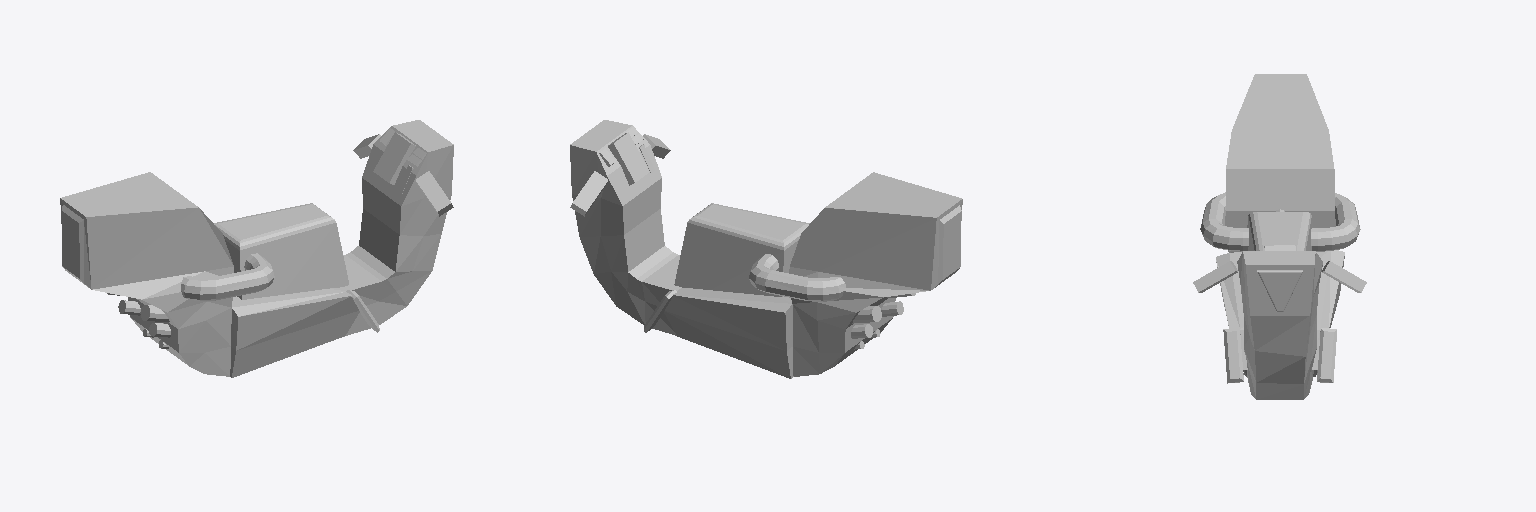
Rendered from SpeederTest01.obj.
3 views of the same model, side by side, from view 1: azimuth 30°, elevation 25°; view 2: azimuth 150°, elevation 25°; view 3: azimuth 270°, elevation 25° (orthographic).
Visible parts, largest first — view 1: Suburban_Commuter_Speeder Speeder_Body Main_Parts, Suburban_Commuter_Speeder Main_Parts Seat, Suburban_Commuter_Speeder Main_Parts R_Tubing Tubes, Suburban_Commuter_Speeder Main_Parts Panel_1 Panels, R_Handle Handles Suburban_Commuter_Speeder; view 2: Suburban_Commuter_Speeder Speeder_Body Main_Parts, Suburban_Commuter_Speeder Main_Parts Seat, Suburban_Commuter_Speeder Main_Parts Tubes L_Tubing, Suburban_Commuter_Speeder Main_Parts Panel_1 Panels, Handles Suburban_Commuter_Speeder L_Handle; view 3: Suburban_Commuter_Speeder Speeder_Body Main_Parts, Suburban_Commuter_Speeder Main_Parts Seat, Suburban_Commuter_Speeder Main_Parts Tubes L_Tubing, Suburban_Commuter_Speeder Main_Parts R_Tubing Tubes, Suburban_Commuter_Speeder Main_Parts L_Foot_Pedal Foot_Pedals, Suburban_Commuter_Speeder Main_Parts Foot_Pedals R_Foot_Pedal, R_Handle Handles Suburban_Commuter_Speeder, Handles Suburban_Commuter_Speeder L_Handle.
Boxes of the visible parts, x1=… form: Suburban_Commuter_Speeder Speeder_Body Main_Parts: x1=60, y1=120, x2=453, y2=377; Suburban_Commuter_Speeder Main_Parts Seat: x1=214, y1=203, x2=348, y2=299; Suburban_Commuter_Speeder Main_Parts R_Tubing Tubes: x1=181, y1=253, x2=274, y2=300; Suburban_Commuter_Speeder Main_Parts Panel_1 Panels: x1=373, y1=132, x2=415, y2=184; R_Handle Handles Suburban_Commuter_Speeder: x1=415, y1=171, x2=453, y2=216; Suburban_Commuter_Speeder Speeder_Body Main_Parts: x1=570, y1=120, x2=962, y2=378; Suburban_Commuter_Speeder Main_Parts Seat: x1=674, y1=203, x2=809, y2=296; Suburban_Commuter_Speeder Main_Parts Tubes L_Tubing: x1=749, y1=254, x2=845, y2=301; Suburban_Commuter_Speeder Main_Parts Panel_1 Panels: x1=608, y1=132, x2=649, y2=185; Handles Suburban_Commuter_Speeder L_Handle: x1=570, y1=171, x2=608, y2=216; Suburban_Commuter_Speeder Speeder_Body Main_Parts: x1=1216, y1=74, x2=1344, y2=399; Suburban_Commuter_Speeder Main_Parts Seat: x1=1247, y1=212, x2=1312, y2=250; Suburban_Commuter_Speeder Main_Parts Tubes L_Tubing: x1=1311, y1=193, x2=1360, y2=251; Suburban_Commuter_Speeder Main_Parts R_Tubing Tubes: x1=1200, y1=192, x2=1248, y2=251; Suburban_Commuter_Speeder Main_Parts L_Foot_Pedal Foot_Pedals: x1=1312, y1=328, x2=1336, y2=382; Suburban_Commuter_Speeder Main_Parts Foot_Pedals R_Foot_Pedal: x1=1223, y1=328, x2=1247, y2=383; R_Handle Handles Suburban_Commuter_Speeder: x1=1193, y1=261, x2=1237, y2=292; Handles Suburban_Commuter_Speeder L_Handle: x1=1322, y1=261, x2=1366, y2=292.
Bounding box in the file's own units: 5.61 × 2.68 × 2.29.